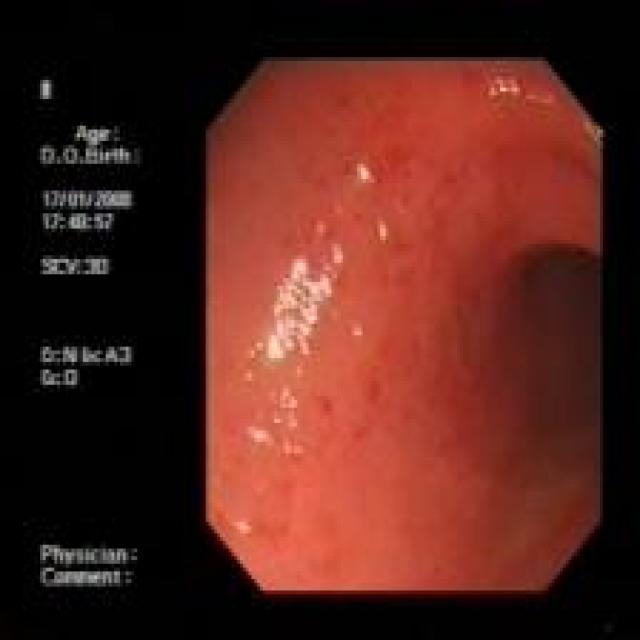color misalignment: (38, 77, 141, 592)
contrast: (503, 243, 601, 519)
specularity: (267, 252, 333, 367), (270, 384, 305, 431), (240, 422, 273, 451), (351, 154, 376, 190), (488, 80, 521, 99), (232, 513, 252, 533), (248, 339, 262, 357), (378, 221, 390, 240), (243, 369, 256, 383)
